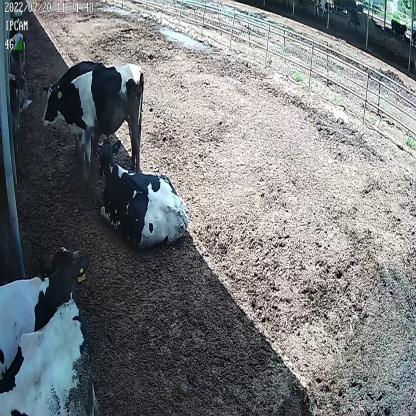cow: (40, 61, 145, 171), (90, 136, 189, 245)
